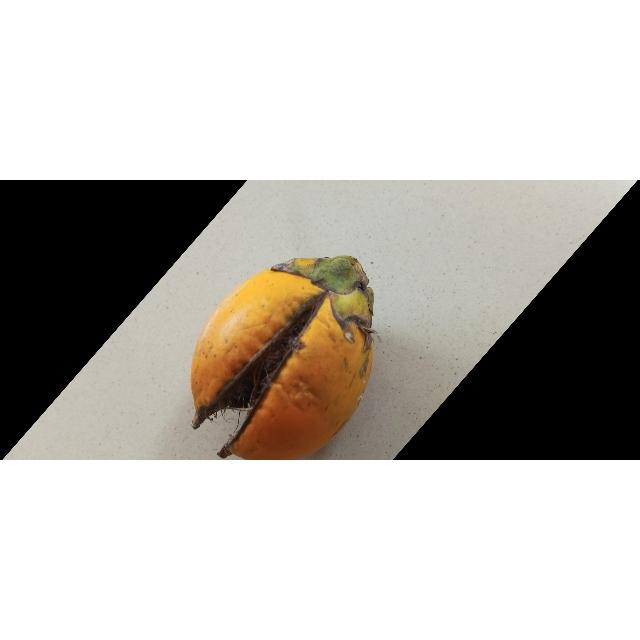damaged: (190, 257, 375, 461)
